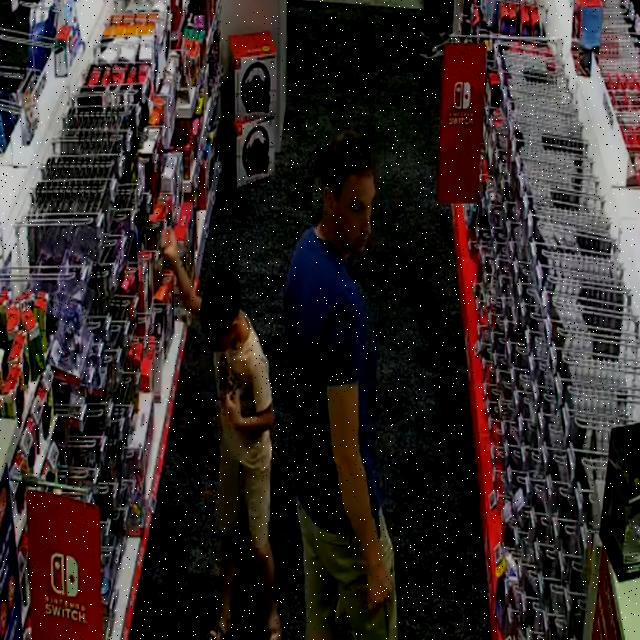hands: (368, 562, 392, 609), (162, 229, 179, 267), (223, 393, 242, 427)
person: (285, 132, 397, 639), (163, 231, 281, 639)
